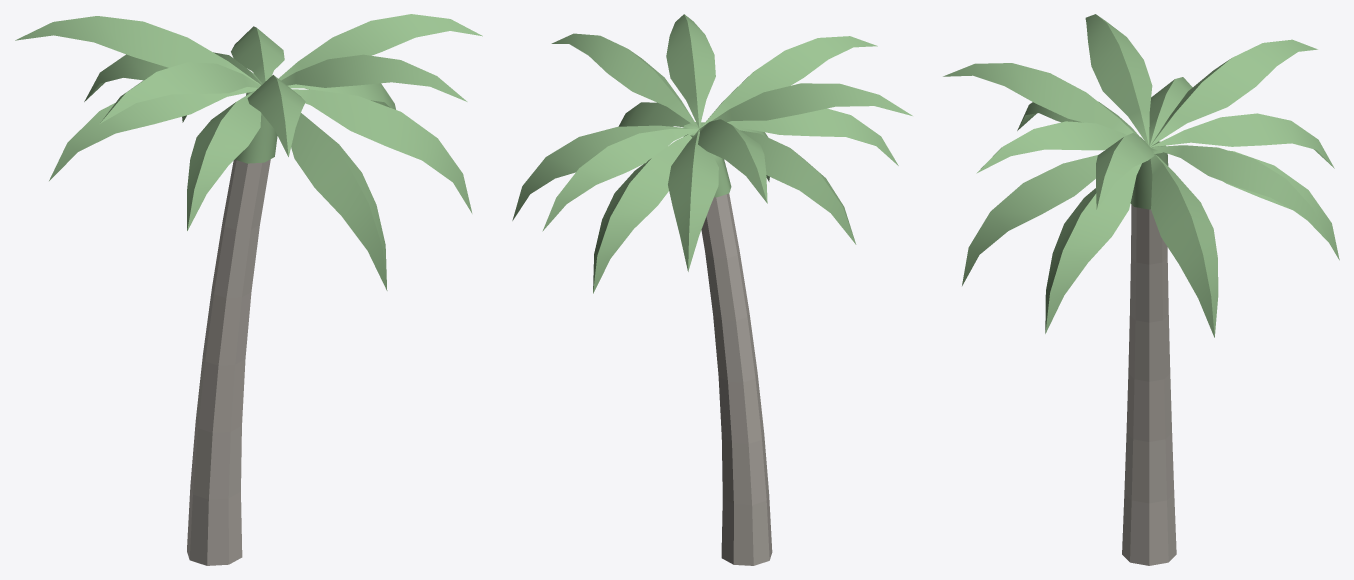
Rendered from tree-palm-c.glb.
3 renders of one model, left to right at view 1: azimuth 30°, elevation 25°; view 2: azimuth 150°, elevation 25°; view 3: azimuth 270°, elevation 25°, orthographic. The views are drawn at different scales.
Visible parts, largest first — view 1: tree-palm-c; view 2: tree-palm-c; view 3: tree-palm-c.
Part boxes in pixels (x1,y1,x2,y2): tree-palm-c: [15, 14, 482, 565]; tree-palm-c: [512, 14, 912, 565]; tree-palm-c: [943, 14, 1339, 565].
Size of the model in its own units: 0.7881 by 1 by 0.7304.
